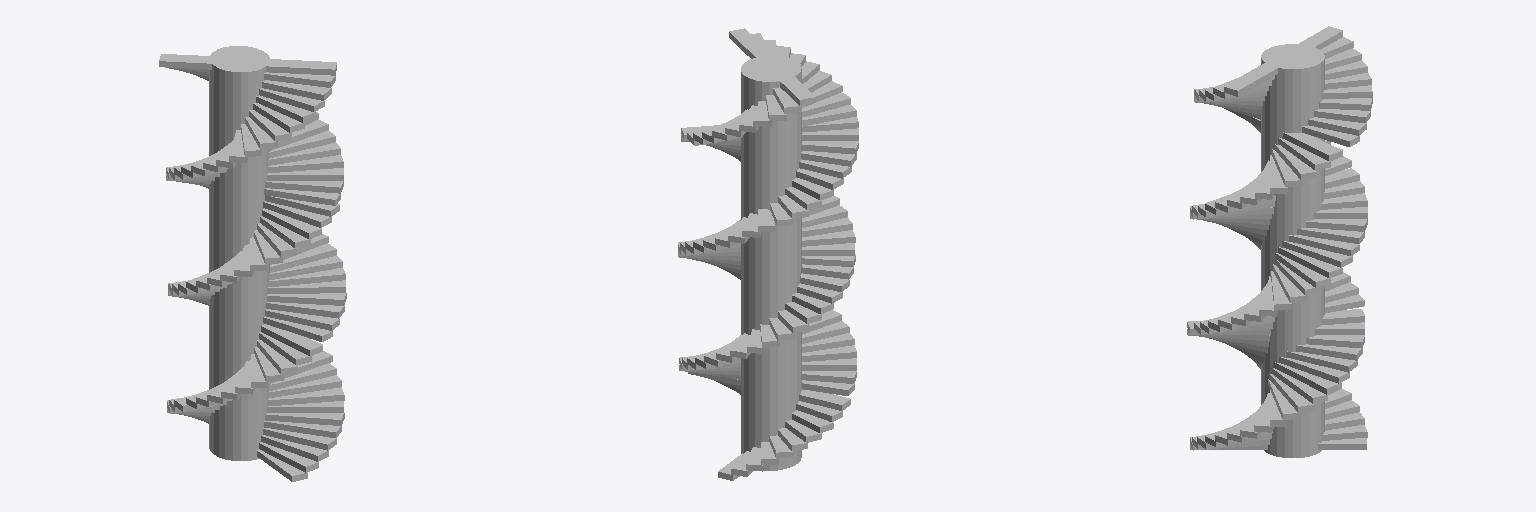
Rendered from STAIR OBJ.obj.
3 views of the same model, side by side, from view 1: azimuth 30°, elevation 25°; view 2: azimuth 150°, elevation 25°; view 3: azimuth 270°, elevation 25° (orthographic).
Visible parts, largest first — view 1: Mesh62, Mesh59, Mesh1, Mesh48, Mesh40, Mesh3, Mesh8, Mesh16, Mesh10, Mesh14, Mesh9, Mesh57 (+28 smaller); view 2: Mesh62, Mesh59, Mesh16, Mesh46, Mesh29, Mesh23, Mesh19, Mesh30, Mesh12, Mesh10, Mesh20, Mesh51 (+19 smaller); view 3: Mesh62, Mesh59, Mesh39, Mesh25, Mesh34, Mesh21, Mesh32, Mesh24, Mesh33, Mesh22, Mesh27, Mesh36 (+27 smaller).
Boxes of the visible parts, box(x1,y1,x2,y2) form: Mesh62: box(209, 46, 269, 460); Mesh59: box(159, 54, 336, 75); Mesh1: box(167, 387, 344, 413); Mesh48: box(166, 155, 343, 180); Mesh40: box(166, 168, 343, 180); Mesh3: box(173, 413, 344, 425); Mesh8: box(168, 290, 346, 305); Mesh16: box(174, 363, 336, 411); Mesh10: box(178, 243, 336, 295); Mesh14: box(169, 268, 345, 295); Mesh9: box(172, 255, 342, 295); Mesh57: box(169, 68, 331, 100); Mesh62: box(741, 55, 801, 470); Mesh59: box(729, 28, 815, 105); Mesh16: box(688, 372, 850, 410); Mesh46: box(681, 141, 858, 154); Mesh29: box(678, 230, 855, 255); Mesh23: box(679, 345, 856, 370); Mesh19: box(679, 365, 856, 383); Mesh30: box(678, 243, 854, 255); Mesh12: box(678, 254, 855, 266); Mesh10: box(687, 258, 849, 291); Mesh20: box(680, 357, 856, 370); Mesh51: box(687, 104, 856, 145); Mesh62: box(1261, 44, 1324, 457); Mesh59: box(1224, 26, 1342, 96); Mesh39: box(1224, 108, 1342, 160); Mesh25: box(1187, 329, 1364, 347); Mesh34: box(1203, 220, 1359, 255); Mesh21: box(1209, 338, 1357, 372); Mesh32: box(1197, 219, 1367, 231); Mesh24: box(1199, 336, 1362, 360); Mesh33: box(1204, 220, 1364, 243); Mesh22: box(1216, 340, 1349, 383); Mesh27: box(1187, 309, 1364, 334); Mesh36: box(1190, 193, 1367, 219).
Size of the model in its own units: 3.92 by 9.27 by 4.